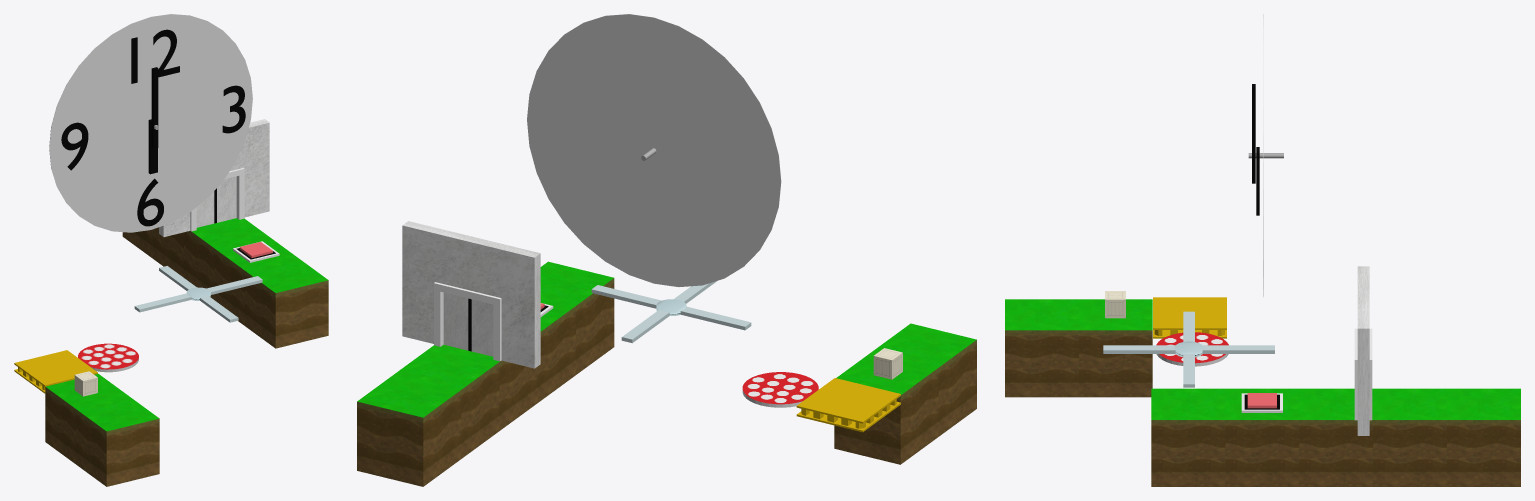
File: stage2.gltf
3 renders of one model, left to right at view 1: azimuth 30°, elevation 25°; view 2: azimuth 150°, elevation 25°; view 3: azimuth 270°, elevation 25°, orthographic. The views are drawn at different scales.
Parts seen in each view (by area): view 1: 円柱.001, Cube.003, Cube.005, Cube.002, Cube, Cube.004, Cube.006, 立方体.003, 立方体.004, 円柱, Cube.007, テキスト (+6 smaller); view 2: 円柱.001, Cube.002, Cube.008, Cube, Cube.007, Cube.003, Cube.005, 立方体.003, Cube.006, 立方体.004, Cube.004, 円柱 (+1 smaller); view 3: Cube.005, Cube.003, Cube.007, Cube.008, Cube.004, Cube.006, Cube, Cube.002, 立方体.003, 立方体.004, 円柱, 円柱.001 (+2 smaller).
Part boxes in pixels (<box>): 円柱.001: <box>49,14,252,232</box>; Cube.003: <box>76,396,159,486</box>; Cube.005: <box>245,258,328,348</box>; Cube.002: <box>159,119,269,236</box>; Cube: <box>45,373,128,463</box>; Cube.004: <box>184,218,266,299</box>; Cube.006: <box>214,235,297,325</box>; 立方体.003: <box>14,350,97,393</box>; 立方体.004: <box>134,266,262,322</box>; 円柱: <box>78,343,138,372</box>; Cube.007: <box>153,227,183,277</box>; テキスト: <box>131,29,179,83</box>; 円柱.001: <box>527,14,781,286</box>; Cube.002: <box>402,221,540,368</box>; Cube.008: <box>357,373,461,486</box>; Cube: <box>834,351,938,464</box>; Cube.007: <box>395,345,499,458</box>; Cube.003: <box>873,323,976,436</box>; Cube.005: <box>540,261,614,374</box>; 立方体.003: <box>796,378,900,432</box>; Cube.006: <box>538,297,575,402</box>; 立方体.004: <box>591,281,751,343</box>; Cube.004: <box>434,344,537,430</box>; 円柱: <box>742,372,818,407</box>; Cube.005: <box>1151,388,1225,486</box>; Cube.003: <box>1005,299,1078,397</box>; Cube.007: <box>1373,388,1446,486</box>; Cube.008: <box>1447,388,1520,486</box>; Cube.004: <box>1299,388,1373,486</box>; Cube.006: <box>1225,388,1299,486</box>; Cube: <box>1079,299,1152,397</box>; Cube.002: <box>1354,266,1372,435</box>; 立方体.003: <box>1153,297,1226,338</box>; 立方体.004: <box>1103,311,1274,387</box>; 円柱: <box>1156,332,1228,366</box>; 円柱.001: <box>1248,14,1283,296</box>.
Bounding box in the file's own units: 2.92 × 3.2 × 3.49.
43 materials, 26 textured.
